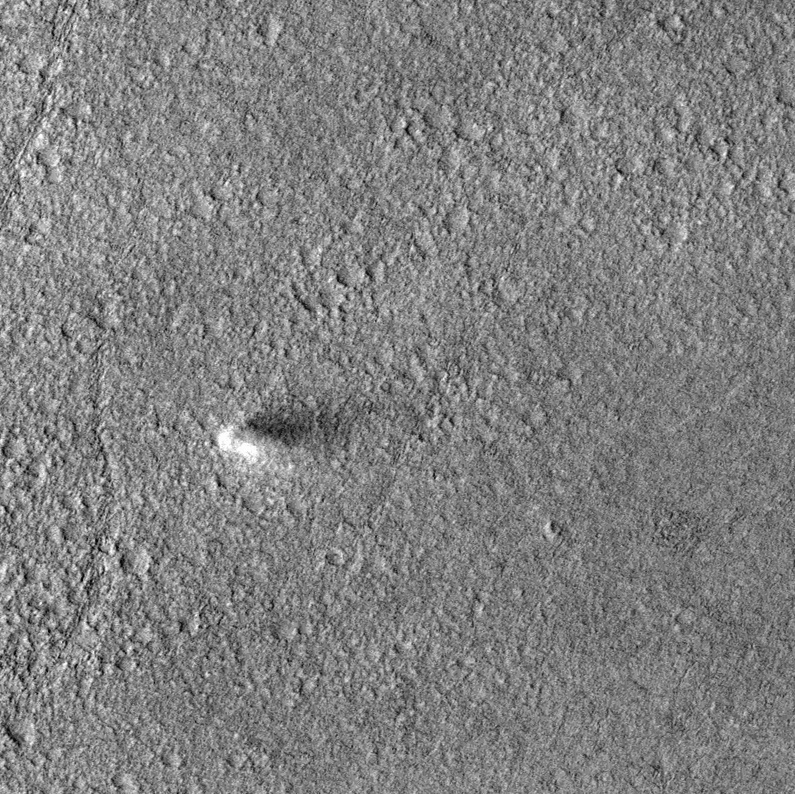dust_devil: (216, 403, 357, 471)
